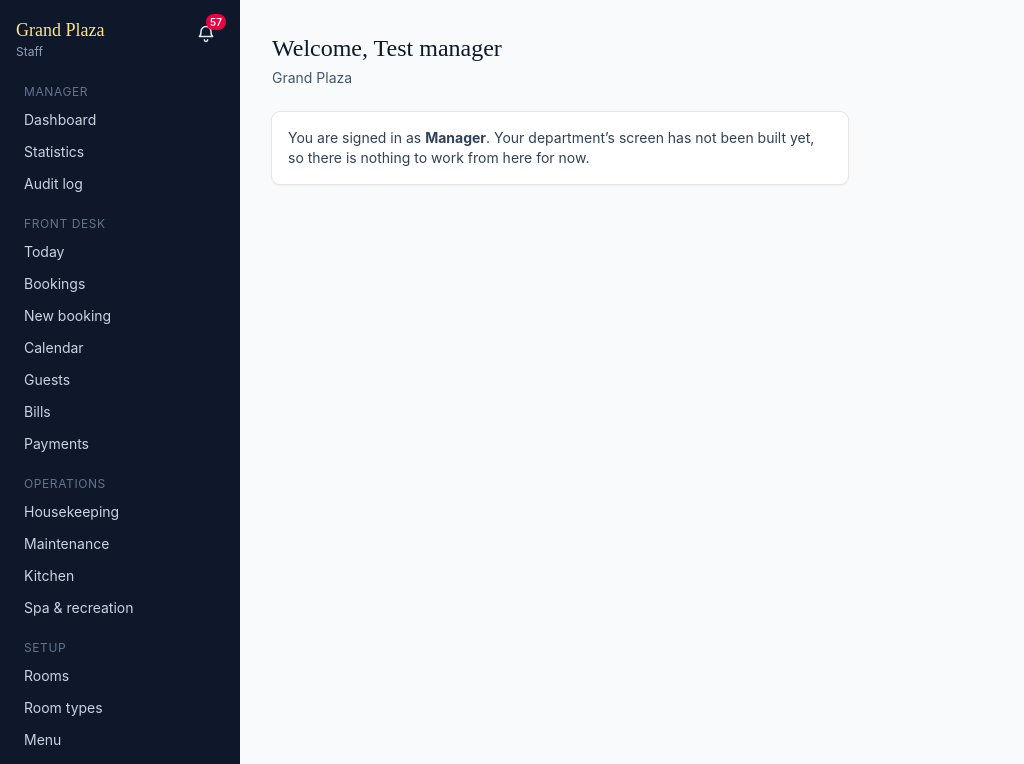
it: the notification bell › says how many are not shown when there are more than one page
Step 1. Click the button named "Notifications" → (206, 34), box left=188, top=16, right=224, bottom=52
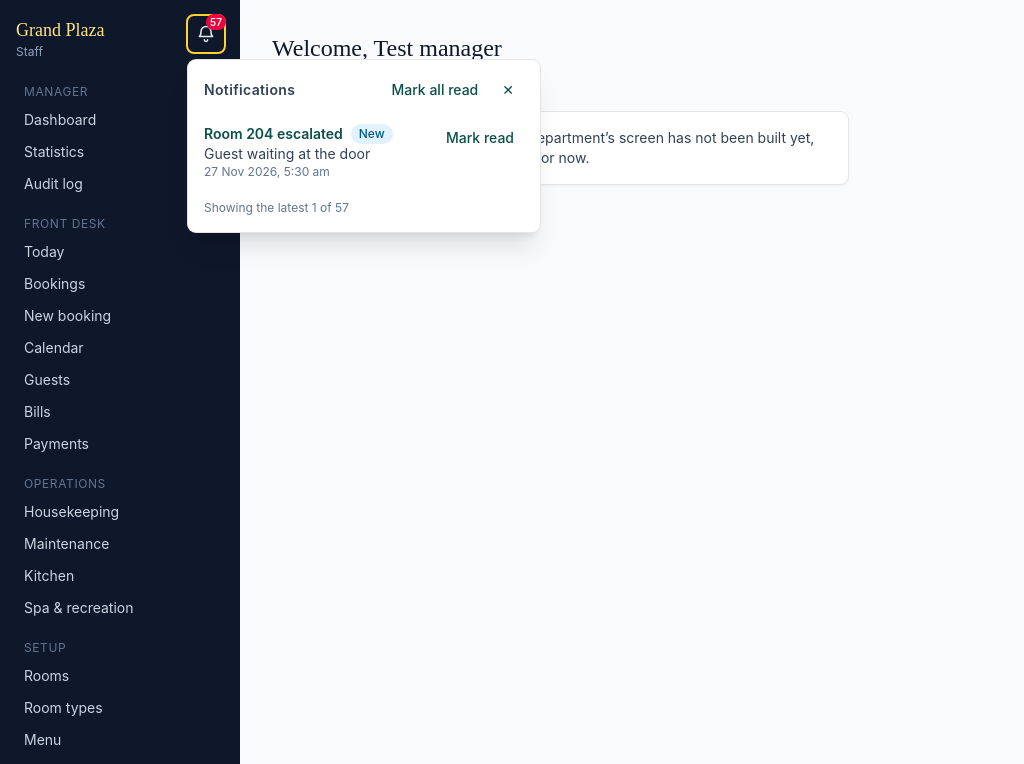
Expected: the text "Showing the latest 1 of 57" is shown, left=204, top=200, right=349, bottom=215
